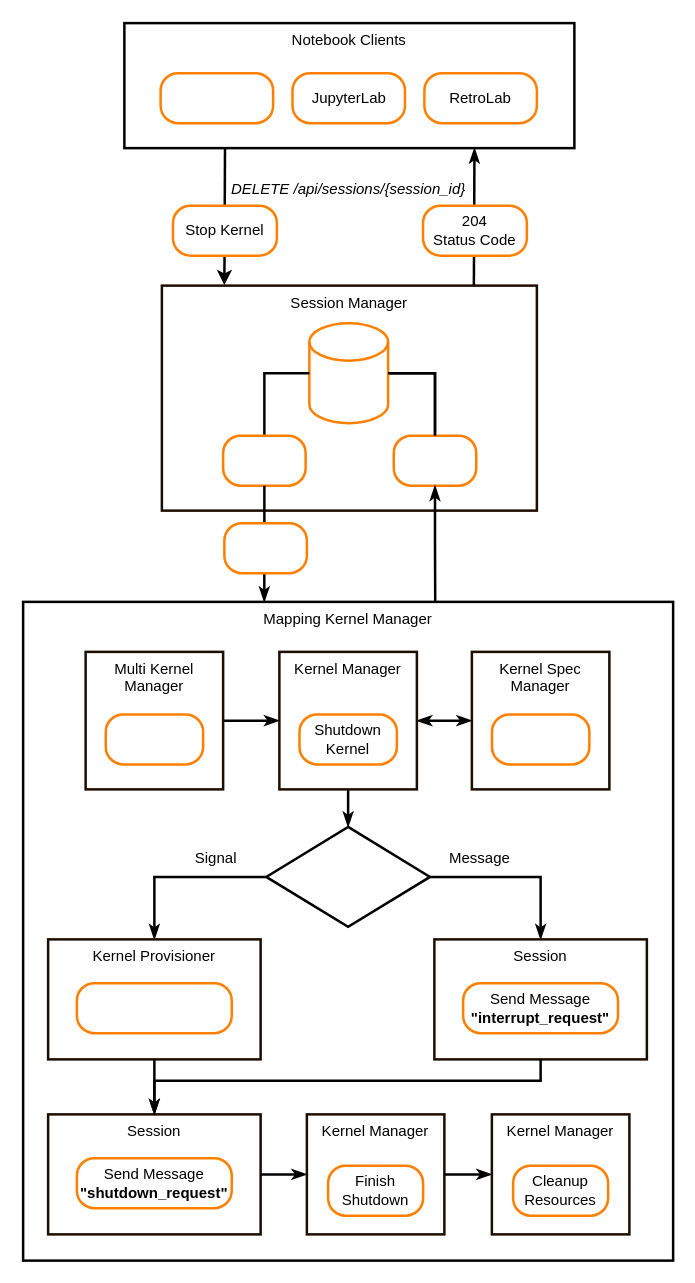
Some shapes in this 695 by 1283 pixel diagram are drawn without their labels. The shapes that lost their labels are listed below. From the top down, each one's centre as x and y in pixels, then its label:
At (216,97): "Jupyter Notebook".
At (348,372): "SQlite3".
At (263,460): "Get Session".
At (434,460): "Delete Session".
At (265,547): "Kernel ID".
At (154,738): "Get Kernel".
At (540,738): "Get Interrupt Mode".
At (347,876): "Interrupt Mode?".
At (153,1007): "Interrupt Kernel with SIGINT".
